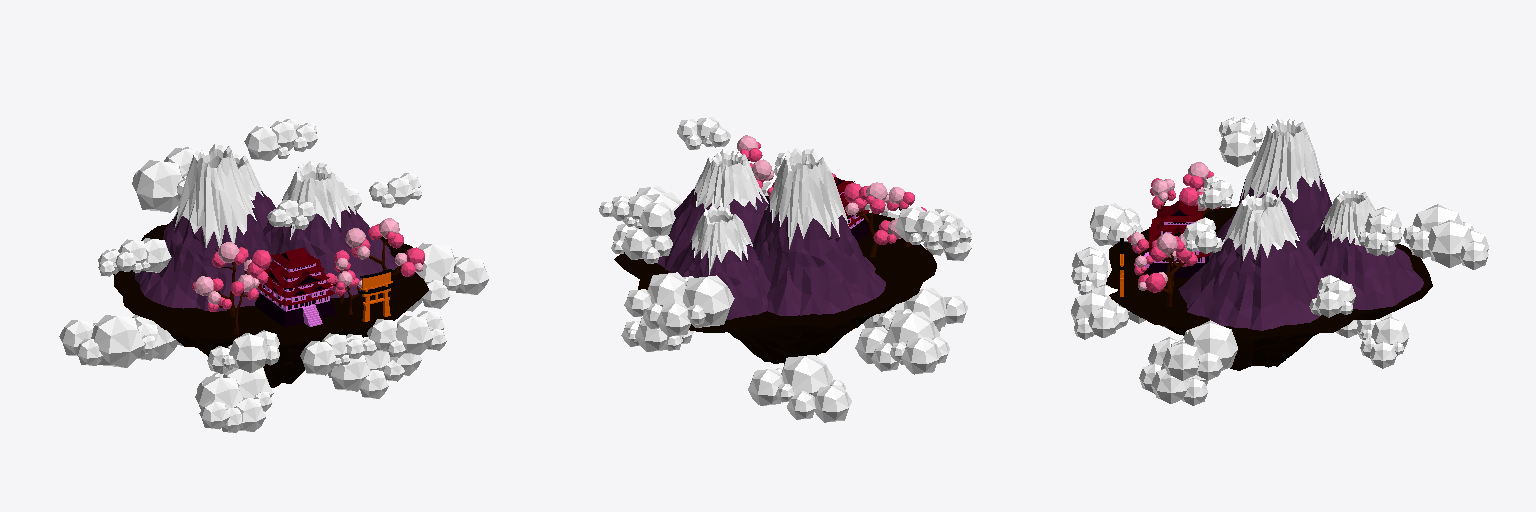
File: takamagahara.obj
3 renders of one model, left to right at view 1: azimuth 30°, elevation 25°; view 2: azimuth 150°, elevation 25°; view 3: azimuth 270°, elevation 25°, orthographic.
Visible parts, largest first — view 1: group10 pPipe2, group10 pPipe4, group10 pPipe1, pCube136, pCube132, pCube135, pCube133, pCube137, pCube147, pCube146, pCube139, group10 polySurface249 (+8 smaller); view 2: group10 pPipe2, group10 pPipe4, group10 pPipe3, group10 pPipe1, pCube137, pCube143, pCube136, pCube134, pCube139, pCube132, pCube144, pCube140 (+3 smaller); view 3: group10 pPipe1, group10 pPipe4, group10 pPipe3, group10 pPipe2, pCube137, pCube135, pCube147, pCube133, pCube140, pCube134, pCube146, pCube139 (+6 smaller).
Boxes of the visible parts, <box> form: group10 pPipe2: <box>135,144,272,311</box>; group10 pPipe4: <box>113,224,428,387</box>; group10 pPipe1: <box>263,161,397,297</box>; pCube136: <box>59,315,163,367</box>; pCube132: <box>195,367,273,432</box>; pCube135: <box>407,243,489,311</box>; pCube133: <box>328,337,421,398</box>; pCube137: <box>132,147,200,212</box>; pCube147: <box>367,311,446,357</box>; pCube146: <box>207,330,279,373</box>; pCube139: <box>244,119,317,160</box>; group10 polySurface249: <box>258,247,334,305</box>; group10 pPipe2: <box>753,148,885,315</box>; group10 pPipe4: <box>614,196,936,363</box>; group10 pPipe3: <box>668,206,770,319</box>; group10 pPipe1: <box>657,149,768,270</box>; pCube137: <box>624,272,734,336</box>; pCube143: <box>748,355,851,422</box>; pCube136: <box>855,311,949,374</box>; pCube134: <box>895,207,971,248</box>; pCube139: <box>599,195,675,236</box>; pCube132: <box>863,288,967,331</box>; pCube144: <box>611,224,672,263</box>; pCube140: <box>621,317,693,351</box>; group10 pPipe1: <box>1178,192,1325,330</box>; group10 pPipe4: <box>1106,206,1432,370</box>; group10 pPipe3: <box>1306,190,1423,309</box>; group10 pPipe2: <box>1209,118,1331,259</box>; pCube137: <box>1403,204,1488,269</box>; pCube135: <box>1163,320,1237,380</box>; pCube147: <box>1071,284,1128,339</box>; pCube133: <box>1139,337,1207,405</box>; pCube140: <box>1357,317,1408,368</box>; pCube134: <box>1219,117,1262,166</box>; pCube146: <box>1090,203,1142,245</box>; pCube139: <box>1358,207,1401,256</box>.
Size of the model in its own units: 1331 by 794 by 1327.